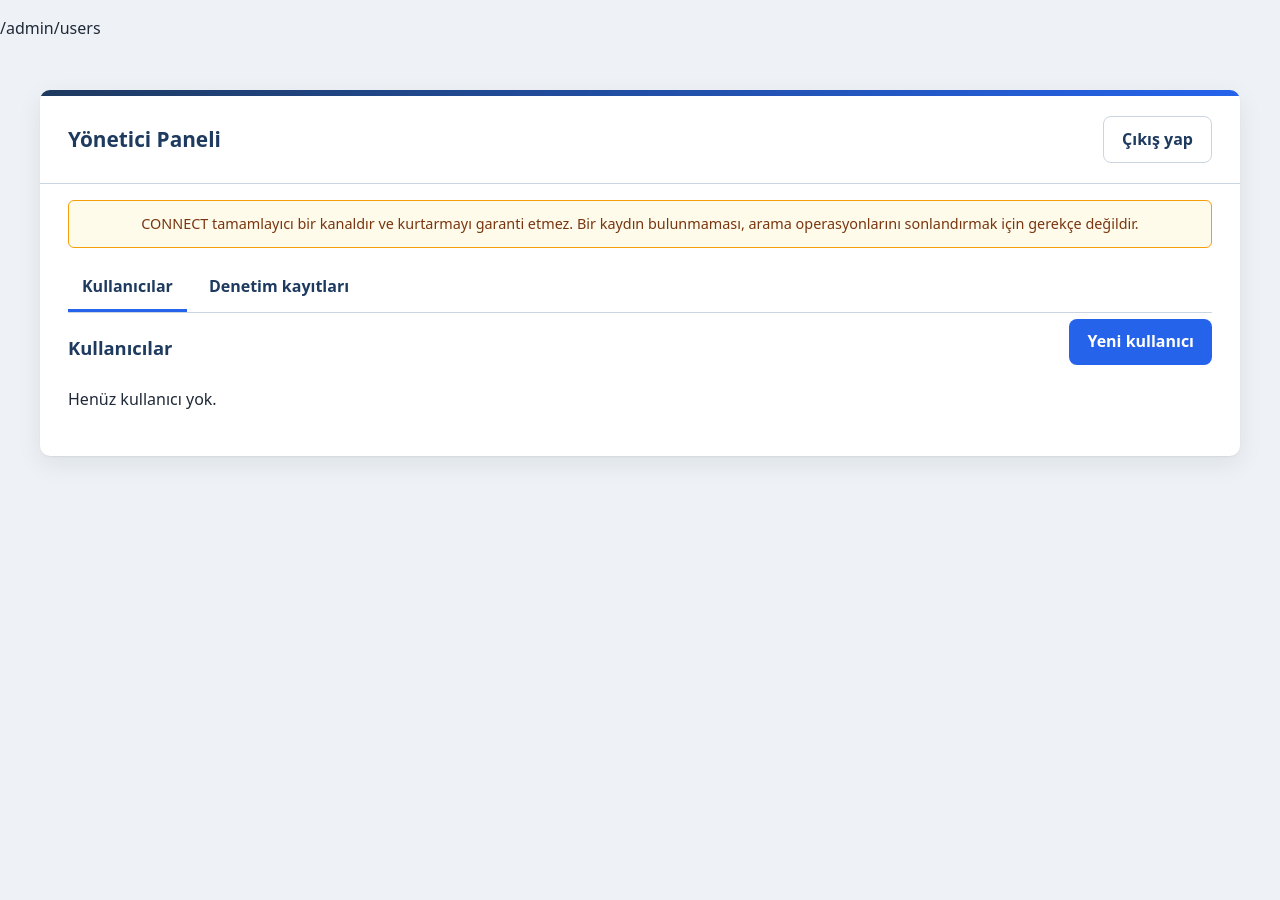
CreateUserDialog › offers only rescuer and coordinator (no administrator)
The width and height of the screenshot is (1280, 900).
Check: the text "Henüz kullanıcı yok." is shown, box x1=68 y1=388 x2=217 y2=410
Click the button "Yeni kullanıcı".
click(1141, 342)  # box x1=1070 y1=319 x2=1212 y2=365
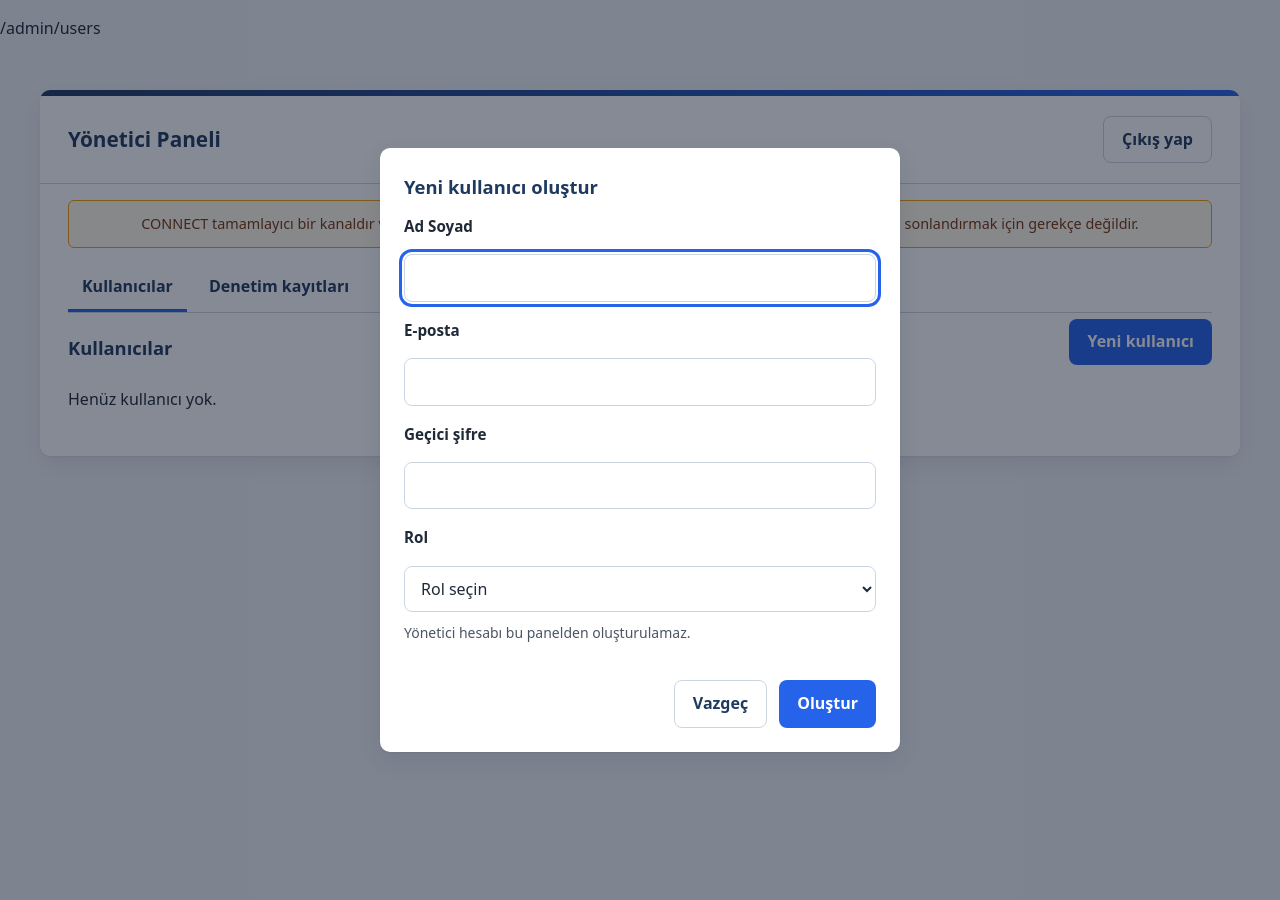
Check: the text "Yönetici hesabı bu panelden oluşturulamaz." is shown, box x1=404 y1=623 x2=690 y2=642
